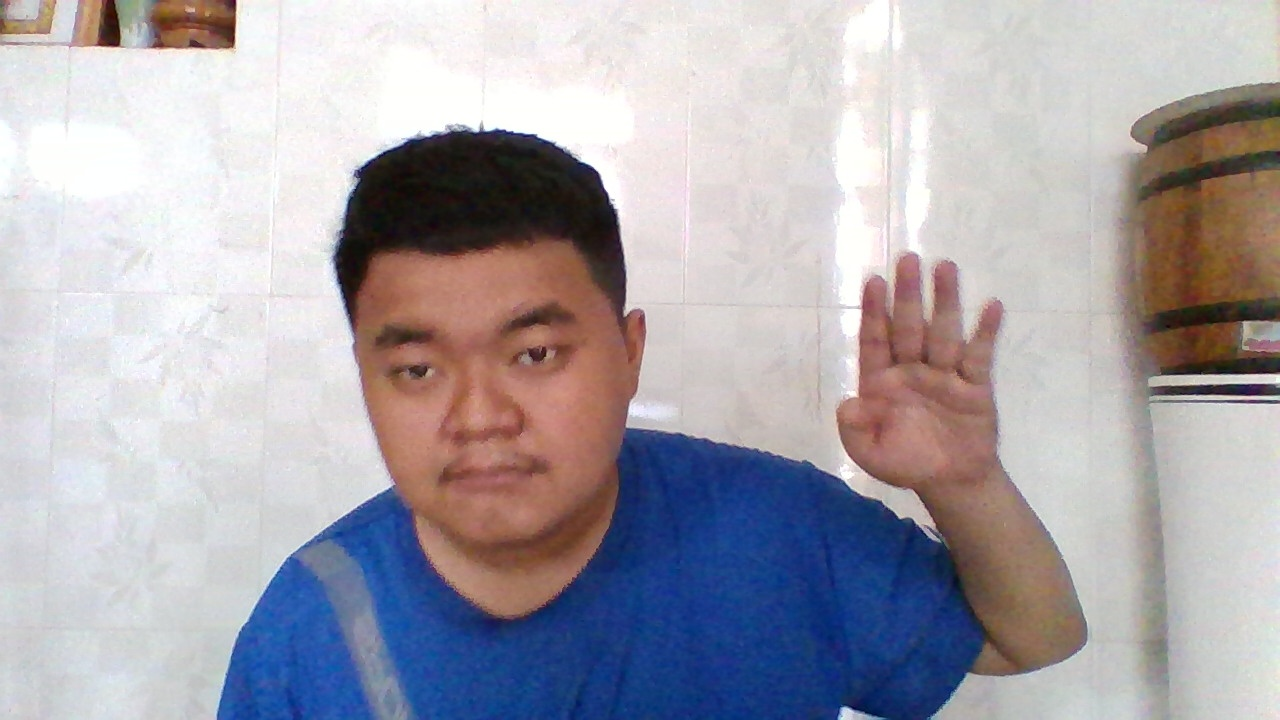B: (829, 247, 1011, 499)
